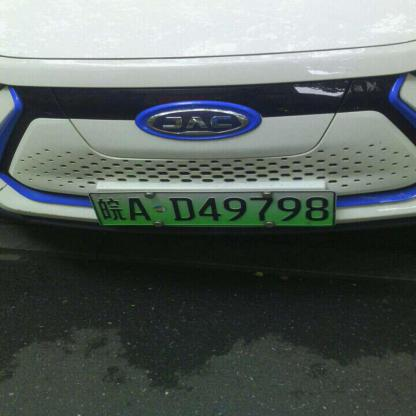lp: (89, 192, 333, 224)
